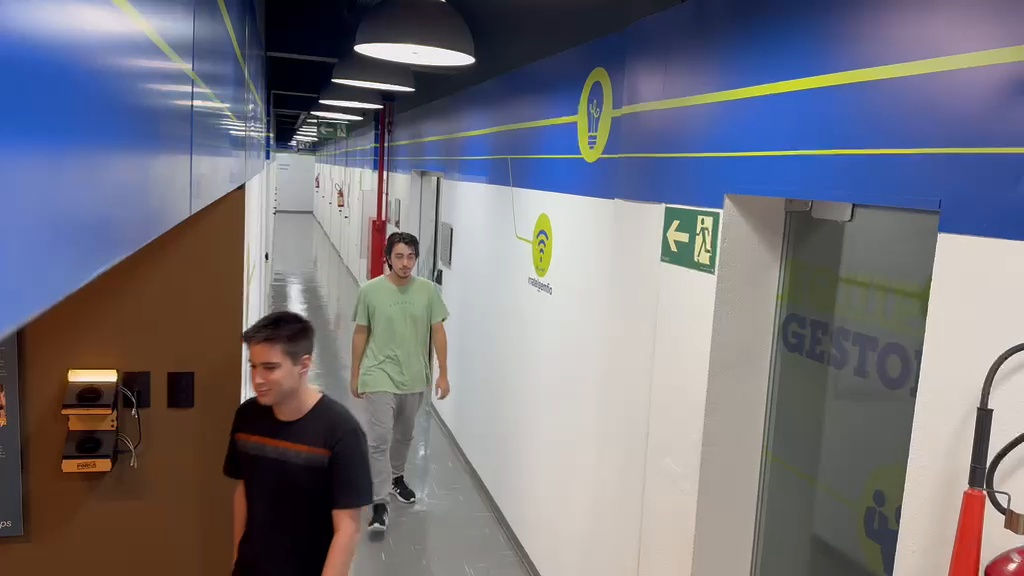person: (222, 309, 375, 574), (349, 230, 450, 517)
